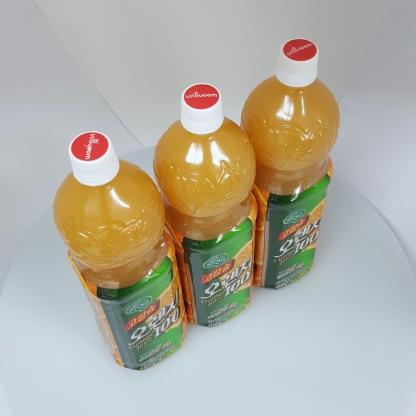--------1-5L: (52, 131, 188, 370), (152, 83, 258, 327), (239, 38, 340, 290)
